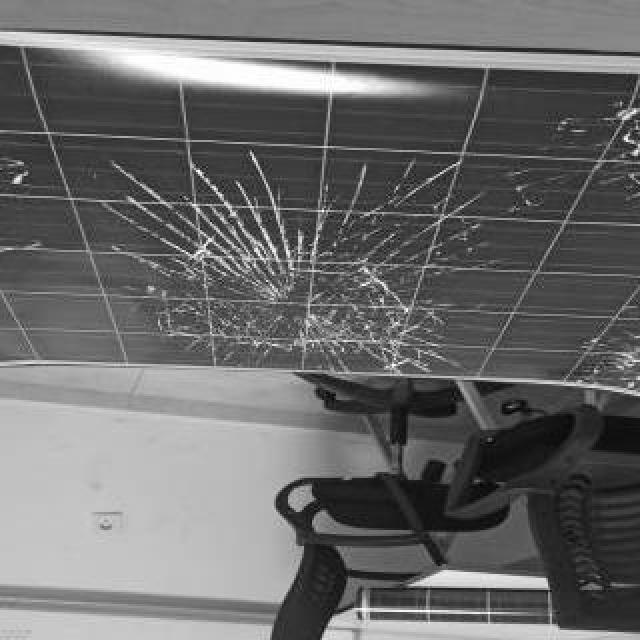Physical-damage: (98, 123, 478, 375), (544, 90, 640, 208), (570, 312, 638, 390), (9, 141, 42, 211)
